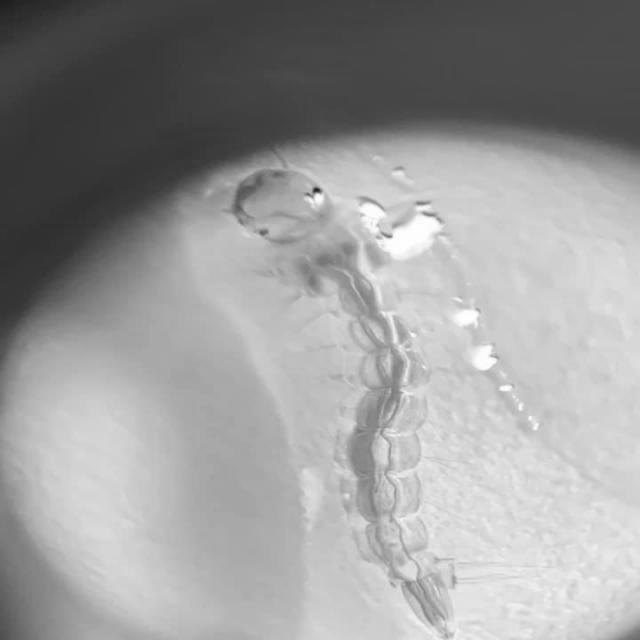larvas: (238, 172, 457, 638)
